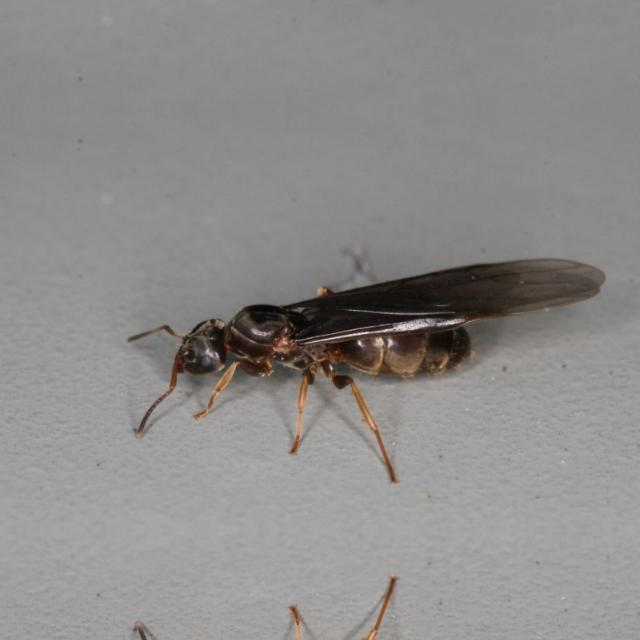Lasius: (123, 242, 595, 428)
